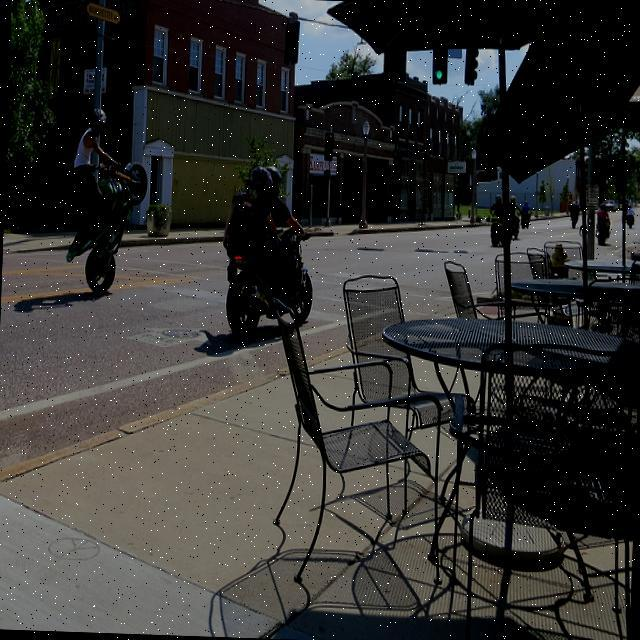fire_hydrant: (550, 240, 570, 278)
